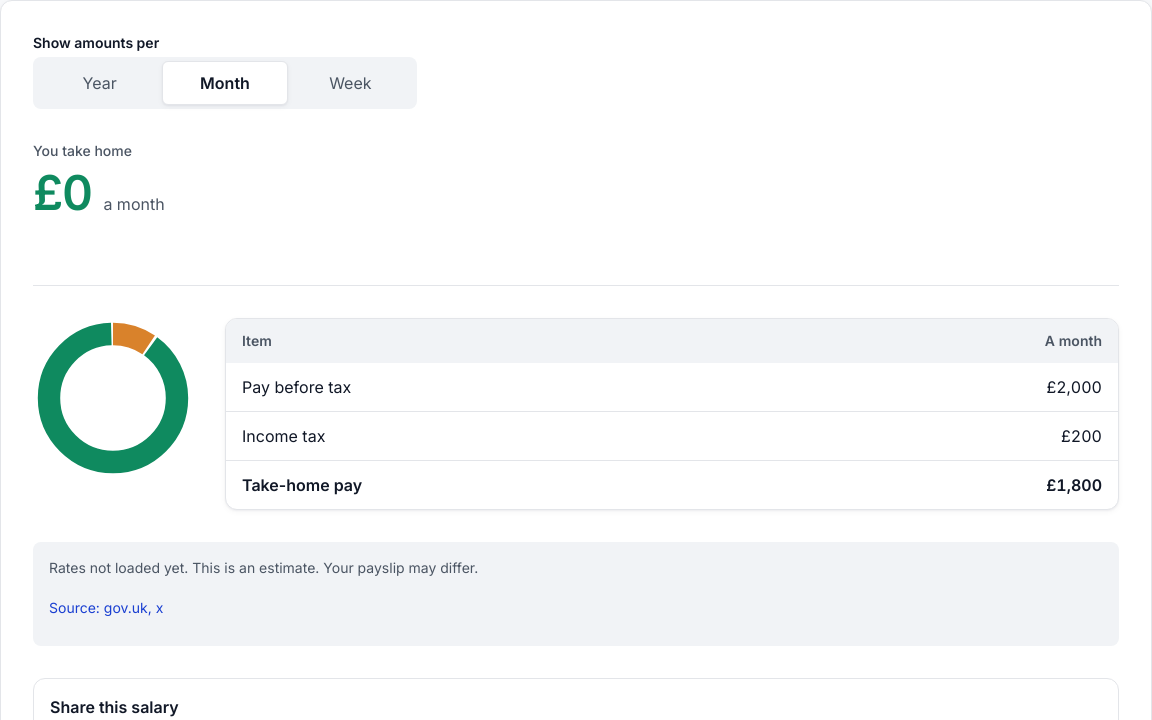
Test: ResultCard › shows the real breakdown, monthly first, and switches period
Click the radio button labelled "Year". click: [100, 83]
box: top-left (37, 61), bottom-right (162, 105)
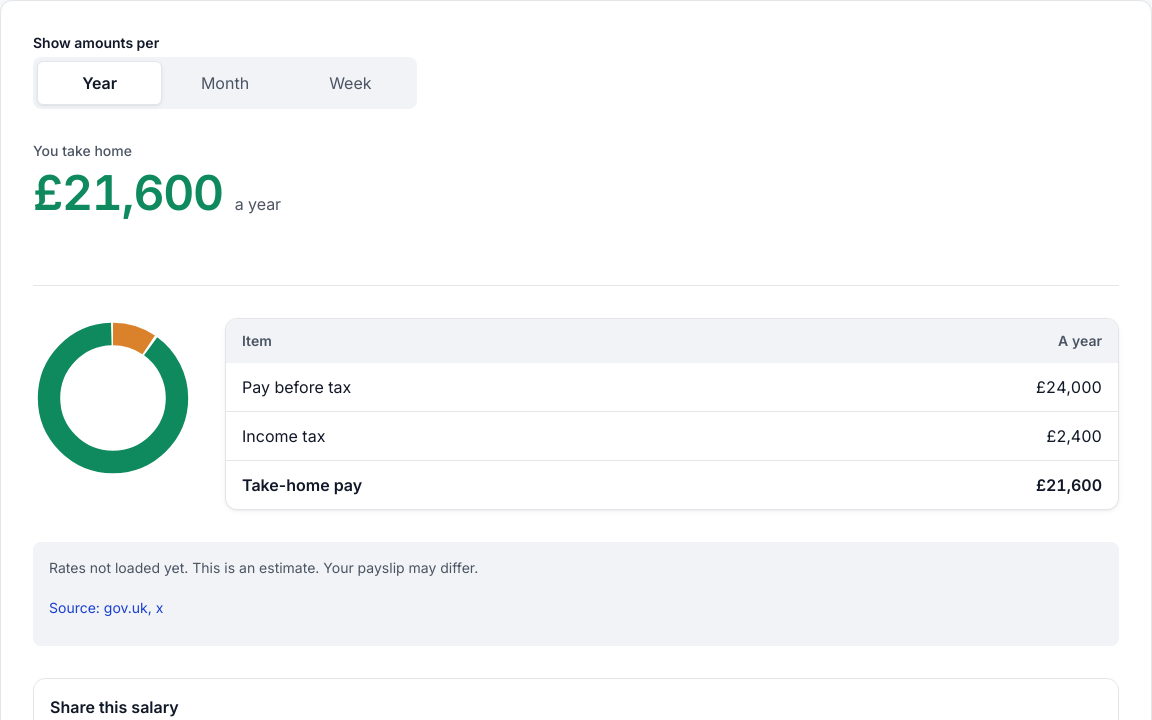
Check: the cell "£2,400" is shown, box top-left (768, 412), bottom-right (1118, 460)
